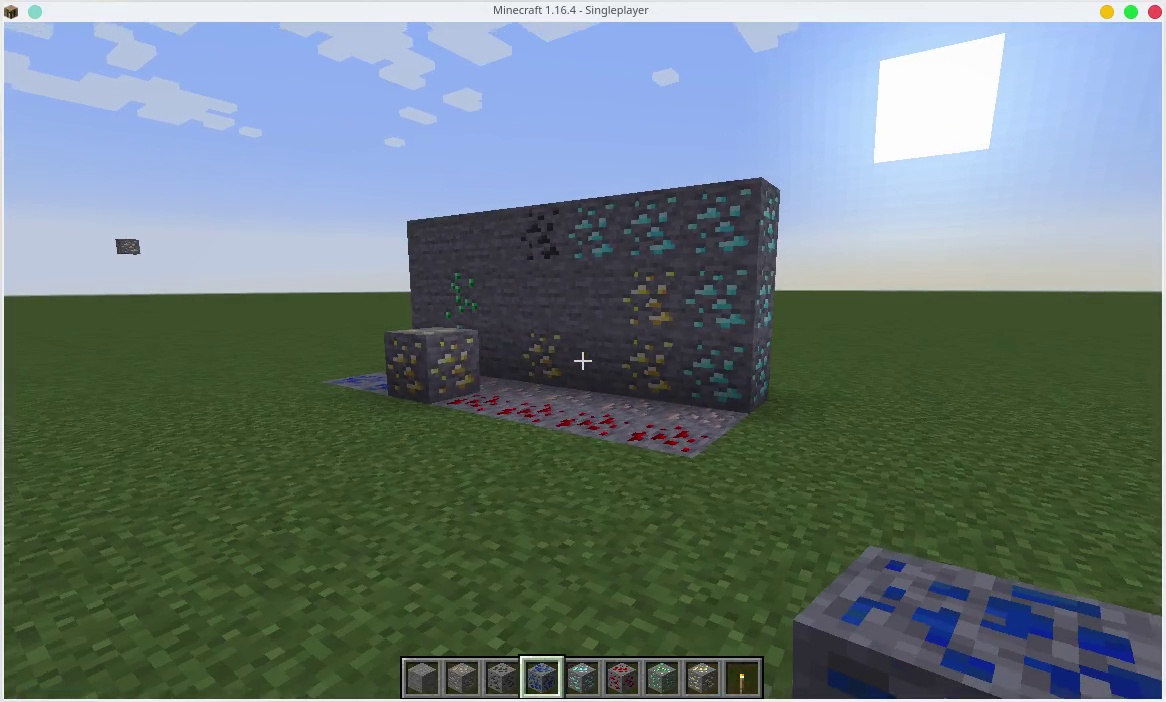gold: (390, 323, 472, 398), (618, 270, 680, 334), (616, 339, 675, 395), (516, 326, 568, 382), (689, 664, 715, 692)
